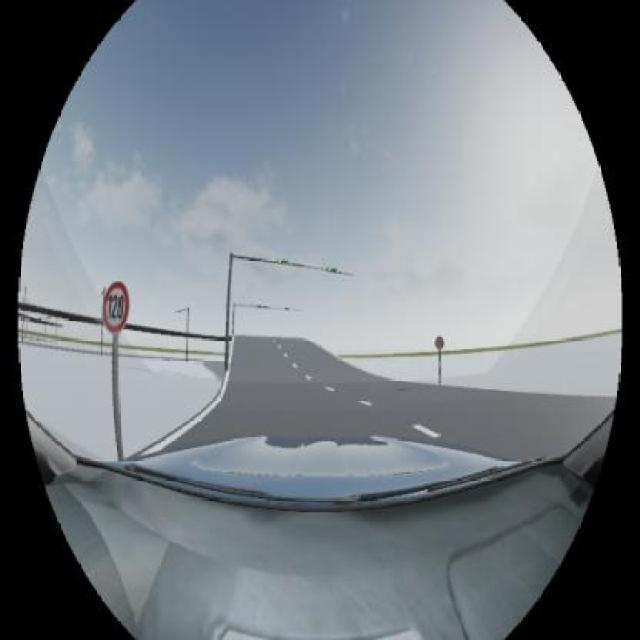forb_speed_over_120: (102, 281, 129, 335)
